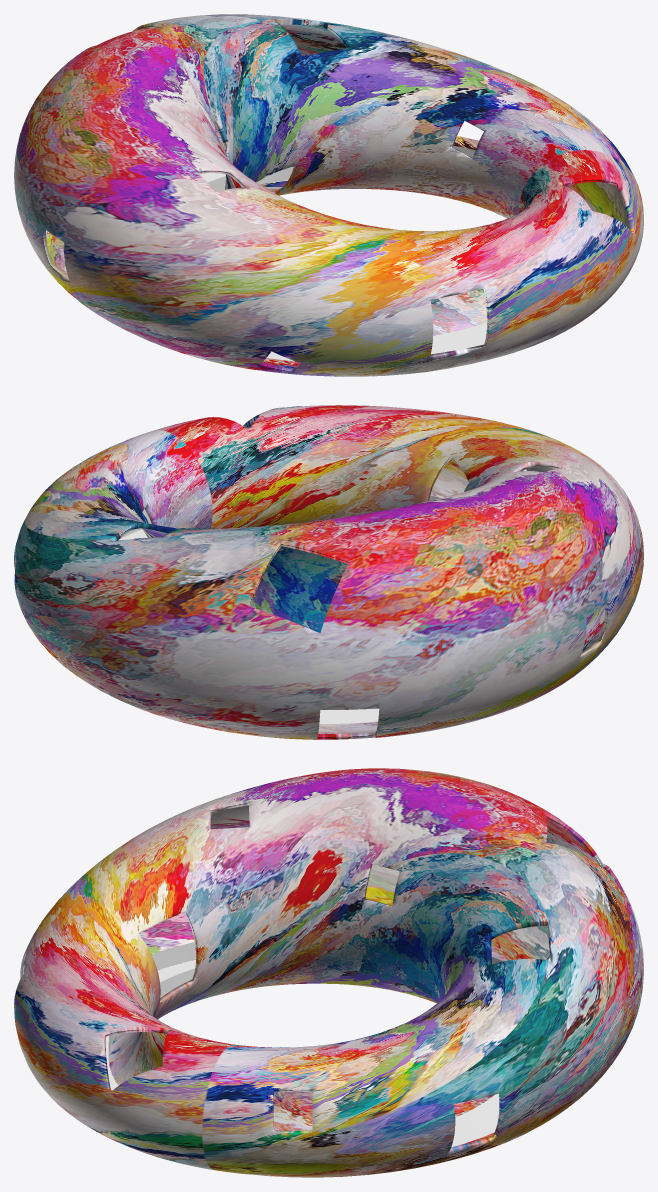
3 views of the same model, one above another, from view 1: azimuth 30°, elevation 25°; view 2: azimuth 150°, elevation 25°; view 3: azimuth 270°, elevation 25° (orthographic). The views are drawn at different scales.
Parts seen in each view (by area): view 1: Solids, Ramps_2, Ramps; view 2: Solids, Ramps_2; view 3: Solids, Ramps_2, Ramps.
Part boxes in pixels (bbox=[...]): Solids: bbox=[14, 14, 643, 376]; Ramps_2: bbox=[201, 173, 487, 361]; Ramps: bbox=[201, 145, 596, 211]; Solids: bbox=[14, 405, 643, 739]; Ramps_2: bbox=[118, 529, 379, 723]; Solids: bbox=[14, 768, 643, 1177]; Ramps_2: bbox=[105, 960, 499, 1146]; Ramps: bbox=[108, 942, 502, 1059].
Bounding box in the file's own units: 48.5 × 16.99 × 47.82.
2 materials, 2 textured.
